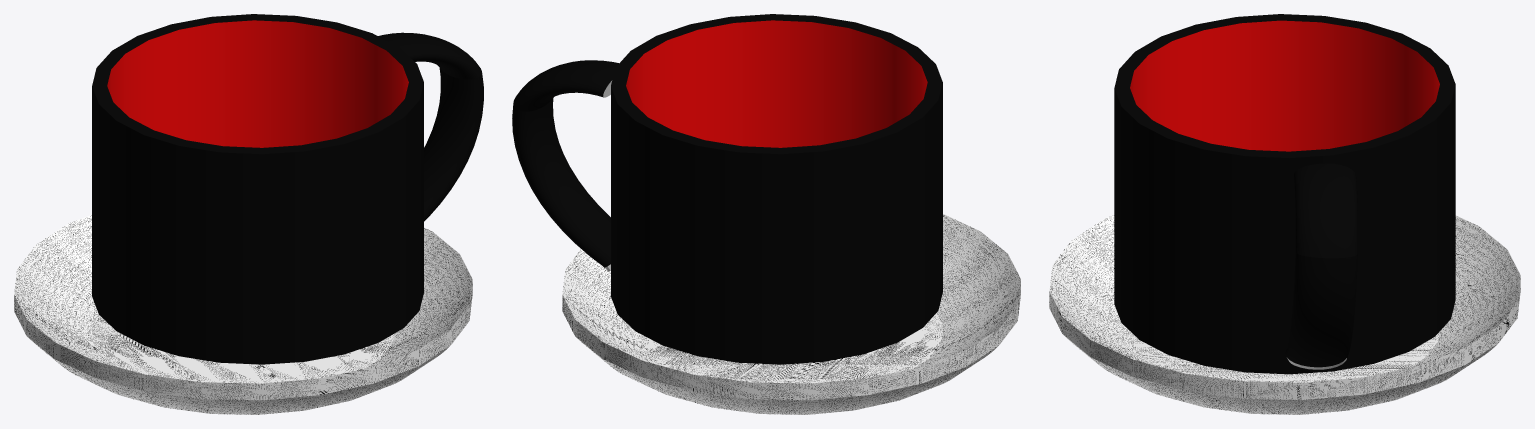
The model's file is mug_15_origin_gt_4.dae.
The picture shows the model from 3 angles, left to right: view 1: azimuth 30°, elevation 25°; view 2: azimuth 150°, elevation 25°; view 3: azimuth 270°, elevation 25°; orthographic projection. The views are drawn at different scales.
Parts seen in each view (by area): view 1: SketchUp (×4); view 2: SketchUp (×4); view 3: SketchUp (×4).
Boxes of the visible parts, <box> form: SketchUp (×4): <box>14,14,483,414</box>; SketchUp (×4): <box>512,14,1020,414</box>; SketchUp (×4): <box>1049,14,1520,414</box>.
Bounding box in the file's own units: 4.73 × 4.16 × 2.54.
